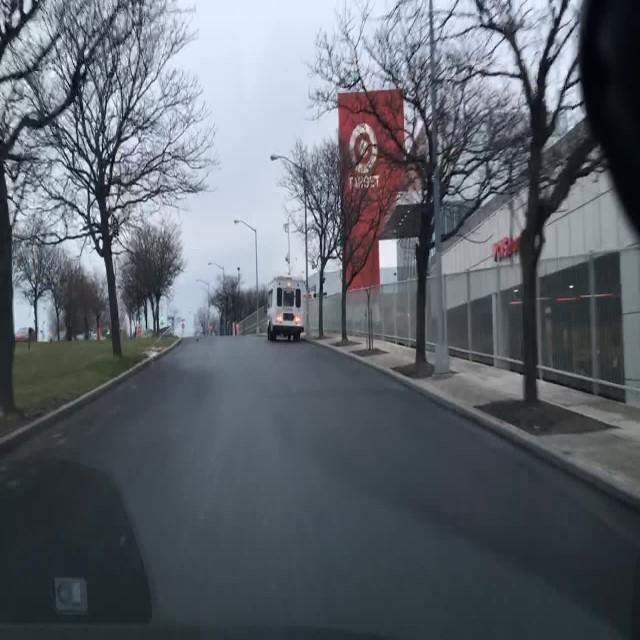normal: (266, 276, 307, 342)
